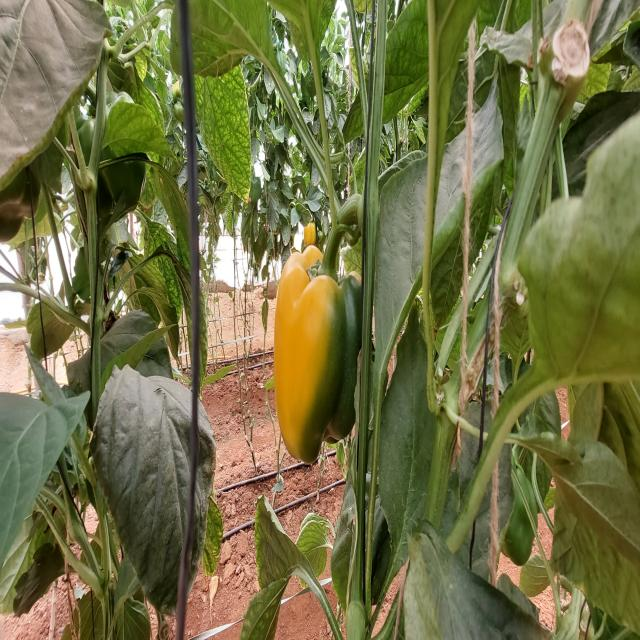GreenishYellow--Can-be-Harvested: (256, 205, 378, 470)
